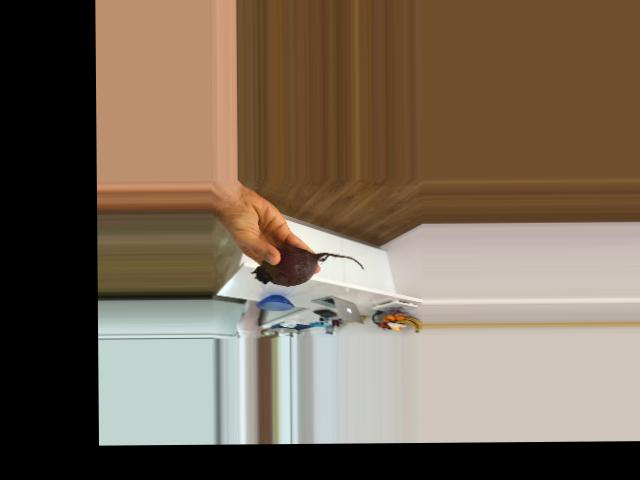beet: (252, 246, 364, 286)
